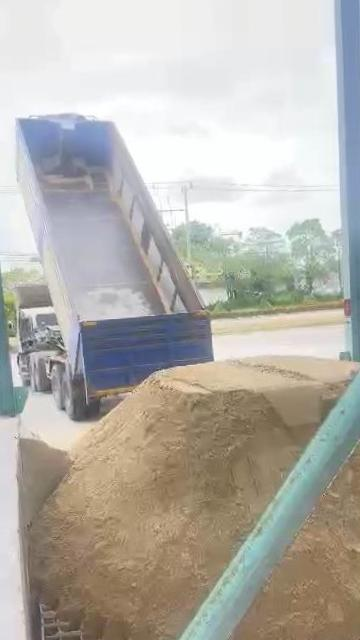sand: (32, 357, 358, 640), (224, 447, 360, 640), (18, 435, 70, 529)
